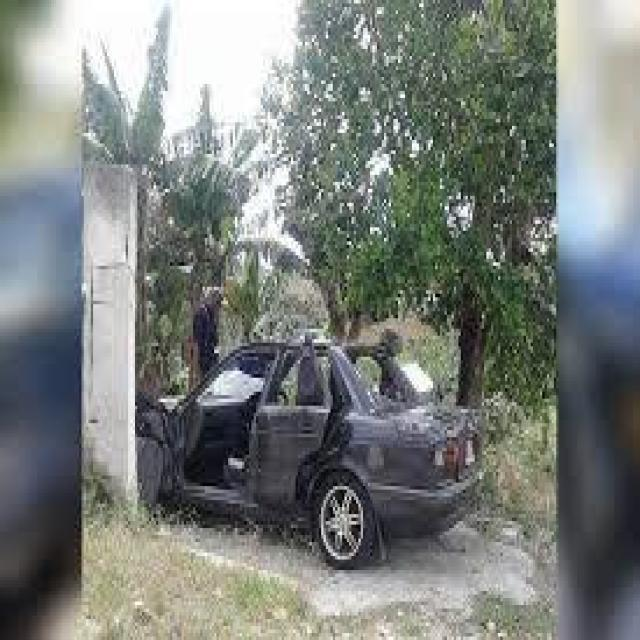damaged: (158, 332, 480, 549)
